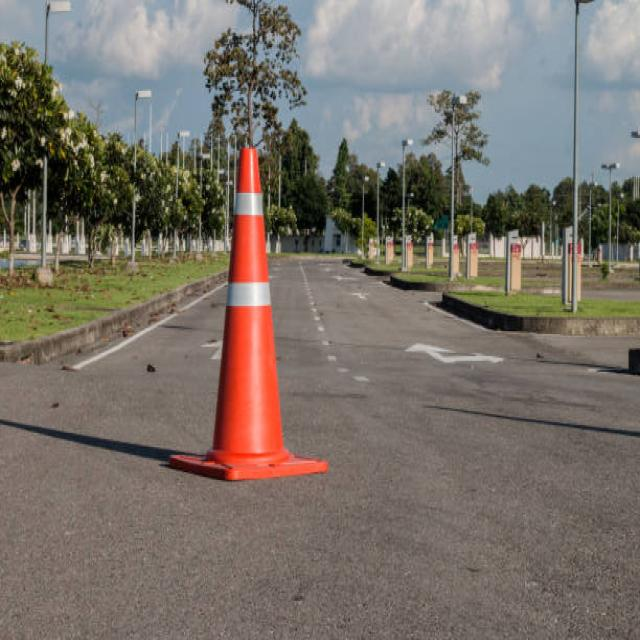Traffic Cone: (164, 115, 330, 507)
